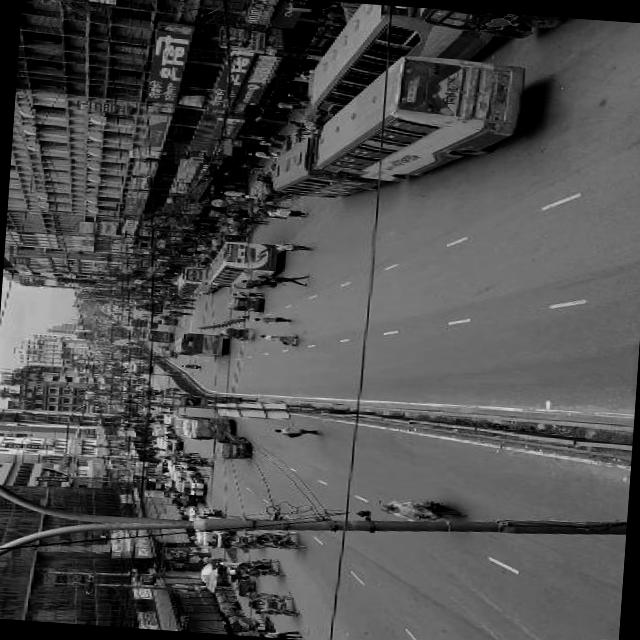bus: (203, 237, 284, 290), (171, 411, 237, 440), (168, 328, 228, 358), (172, 262, 218, 296), (171, 472, 206, 493), (192, 526, 221, 546)
motorcycle: (310, 44, 528, 190), (302, 0, 499, 125), (267, 128, 390, 202), (244, 592, 299, 618), (252, 526, 305, 550), (235, 553, 284, 576), (224, 291, 263, 311), (217, 322, 256, 340), (220, 530, 259, 548)
truck: (210, 428, 252, 458)
